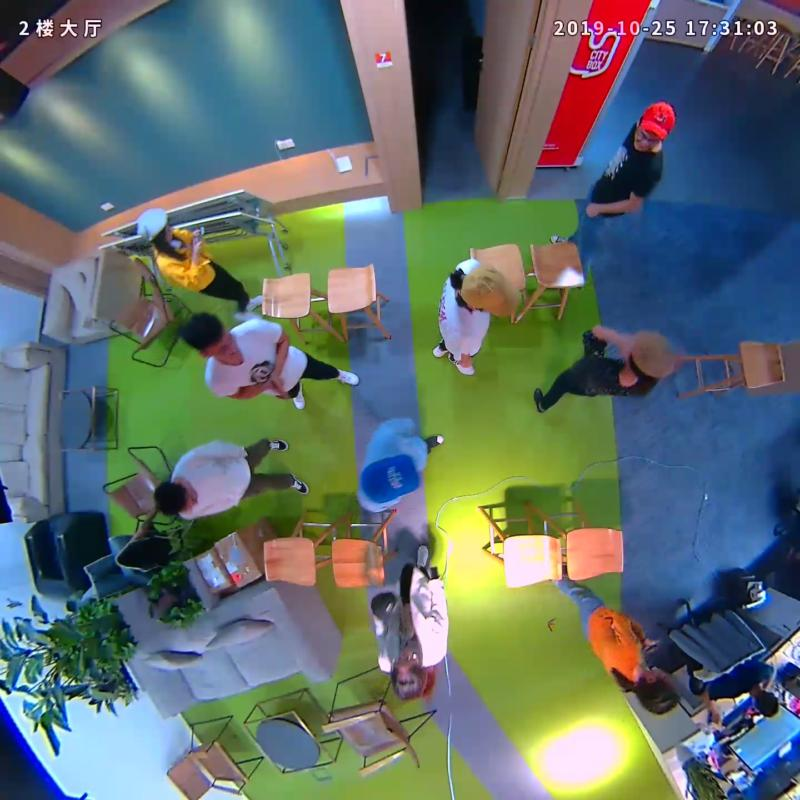head: (459, 263, 522, 319), (360, 453, 422, 503), (179, 311, 237, 363), (628, 329, 677, 382), (635, 667, 680, 715), (633, 101, 675, 152), (390, 644, 427, 701), (153, 480, 198, 518), (135, 208, 174, 242)
